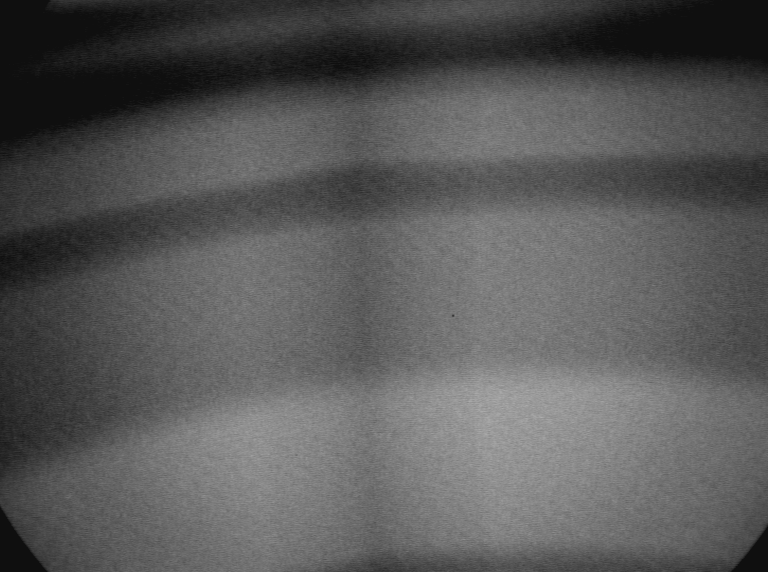defect: (288, 0, 469, 570)
